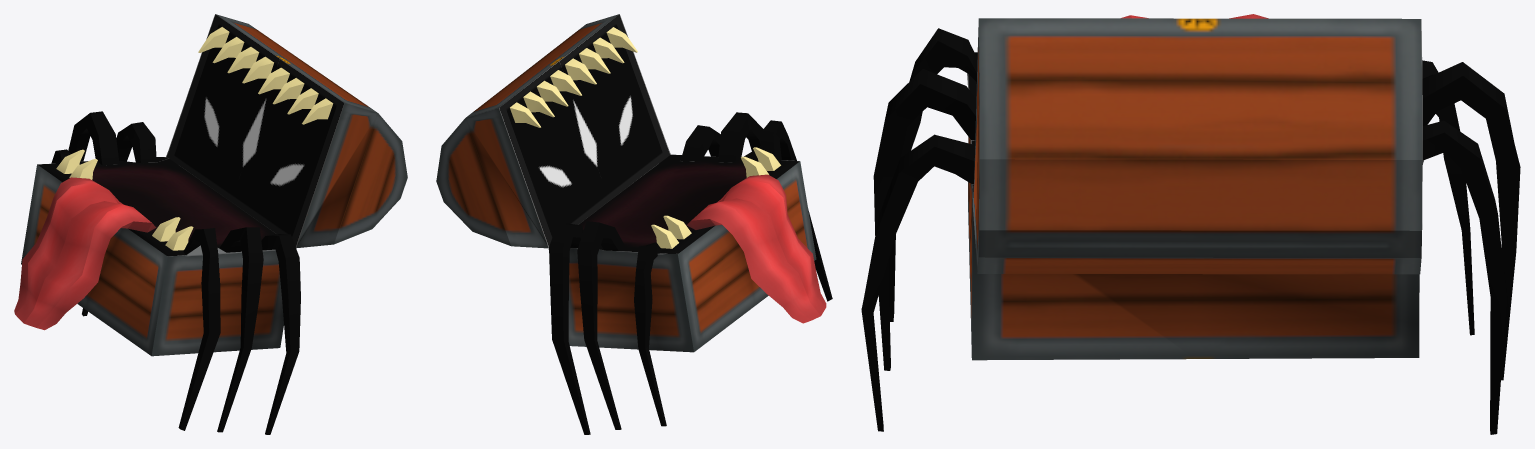
Rendered from cofrearana_000033.obj.
3 views of the same model, side by side, from view 1: azimuth 30°, elevation 25°; view 2: azimuth 150°, elevation 25°; view 3: azimuth 270°, elevation 25° (orthographic). The views are drawn at different scales.
Parts seen in each view (by area): view 1: cofreArana:Mesh; view 2: cofreArana:Mesh; view 3: cofreArana:Mesh.
Boxes of the visible parts, x1,y1,x2,y2 form: cofreArana:Mesh: (14,14,407,434); cofreArana:Mesh: (436,14,832,434); cofreArana:Mesh: (861,14,1520,434).
Size of the model in its own units: 9.36 by 8.02 by 9.33.
